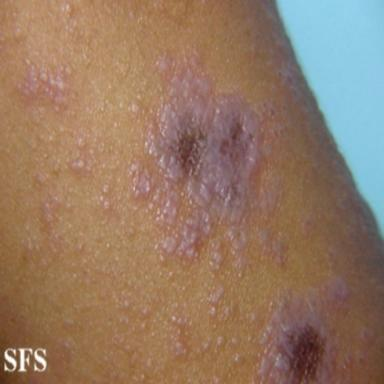lichen: (252, 1, 384, 274), (126, 51, 286, 269), (254, 277, 349, 383), (17, 58, 71, 110), (67, 131, 99, 176), (168, 308, 193, 359)
